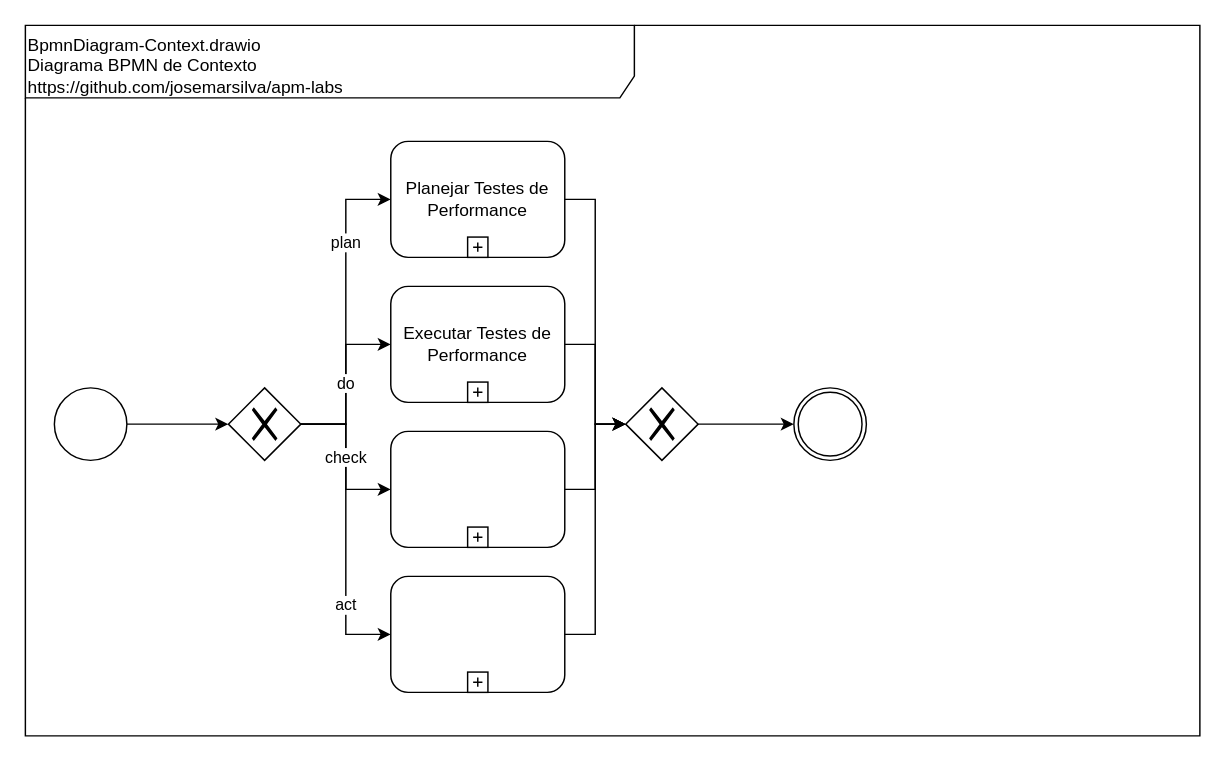
This 1225x761 diagram has some shape labels left out. The centre of each missing label's shape, as x and y in pixels:
"Agir: Relatório, Conclusões eAções Corretivas" goes at [477,633].
"Checar Resultados dos Testes de Performance" goes at [477,488].
